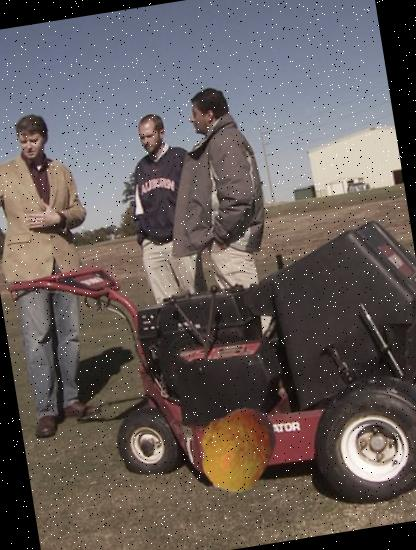Mandarine: (186, 397, 288, 499)
